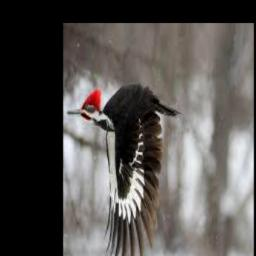Woodpecker: (66, 85, 180, 256)
